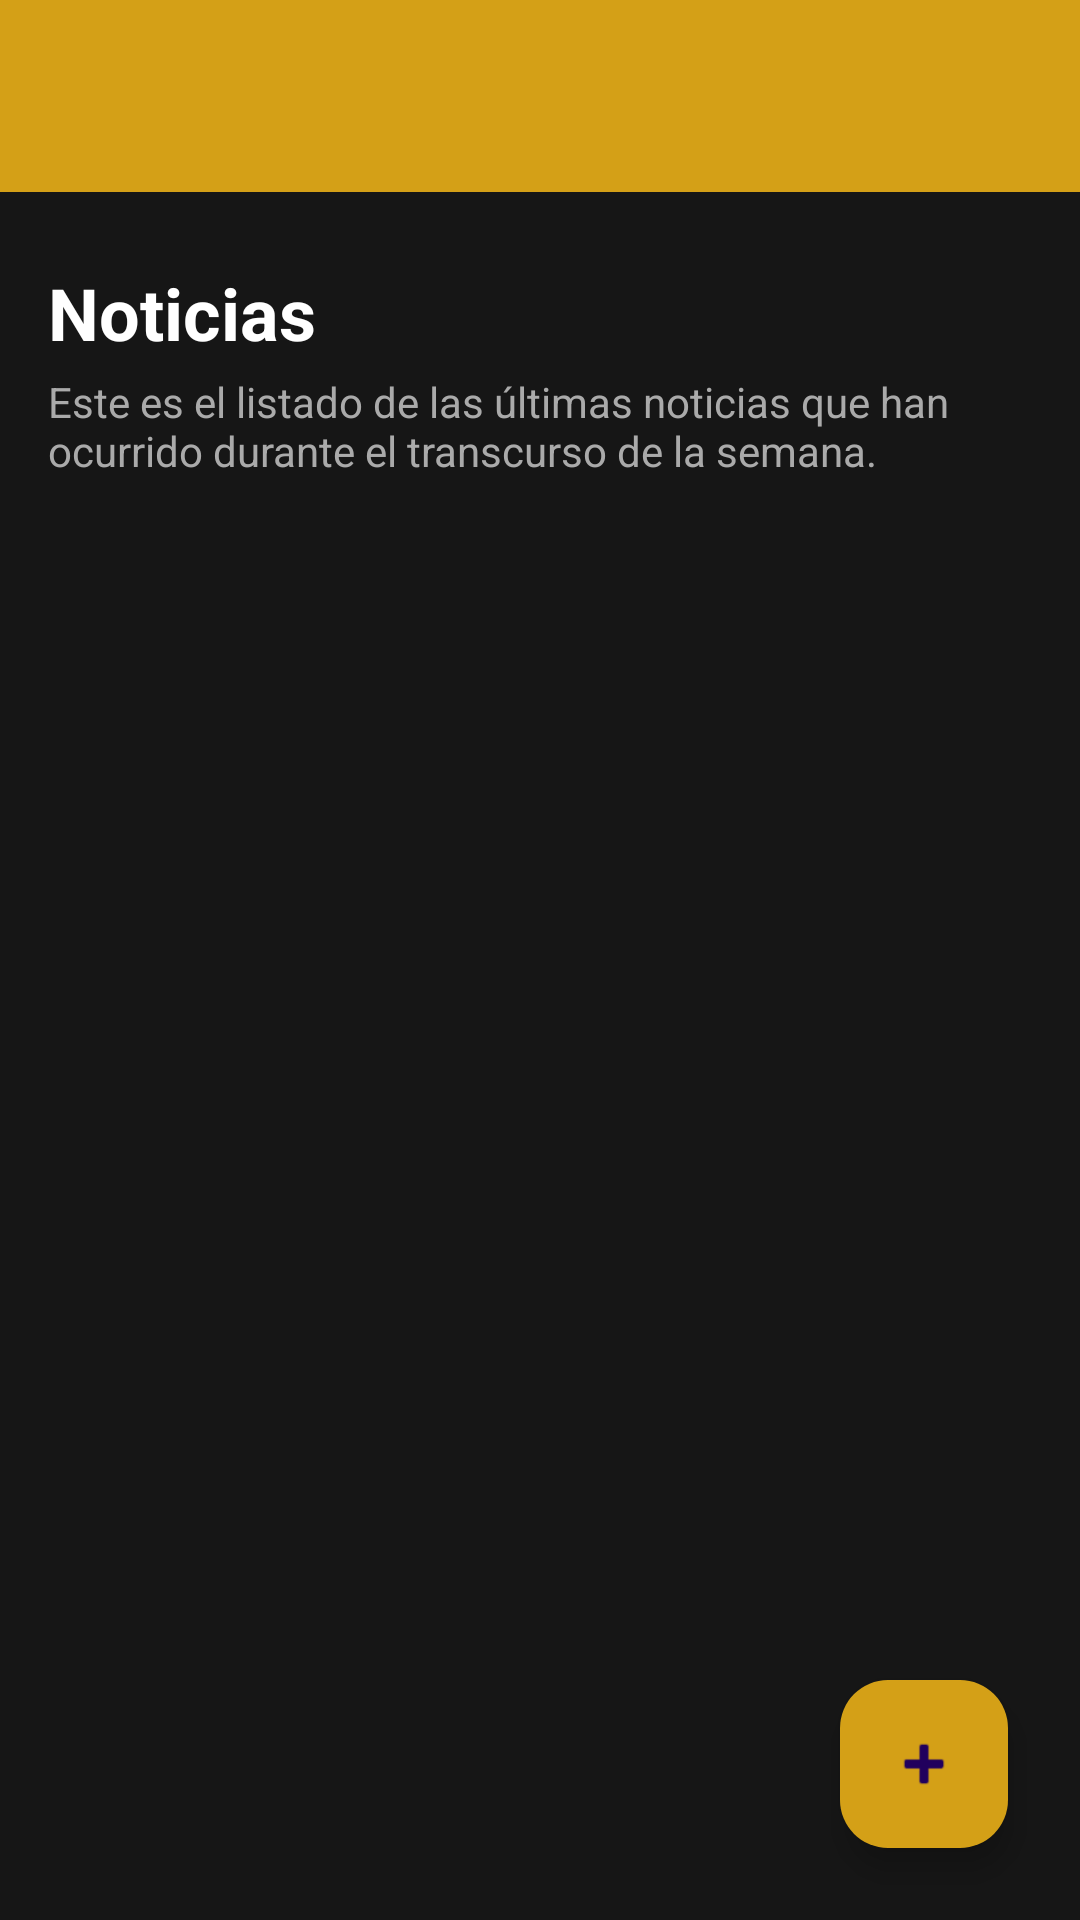

Point at icon controls on the screen. Image size 1080 x 1920, points as point (x, y).
Agregar noticia: point (924, 1764)
